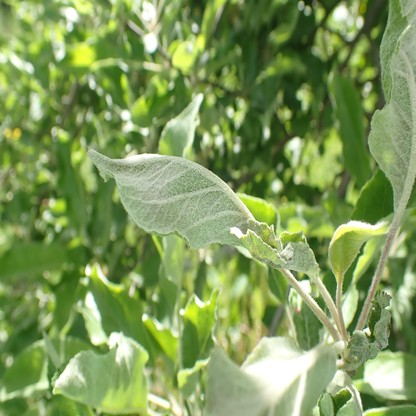powdery_mildew: (84, 148, 317, 266), (368, 0, 416, 220), (368, 293, 391, 357), (348, 331, 368, 361)
